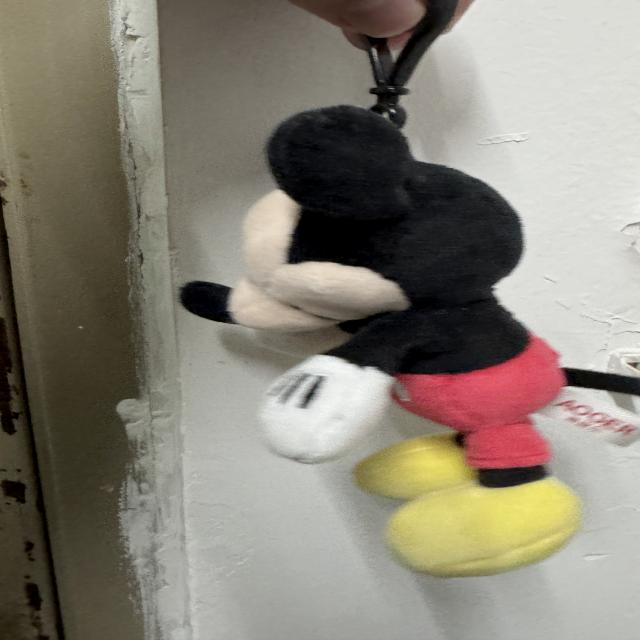mickey: (182, 106, 580, 576)
